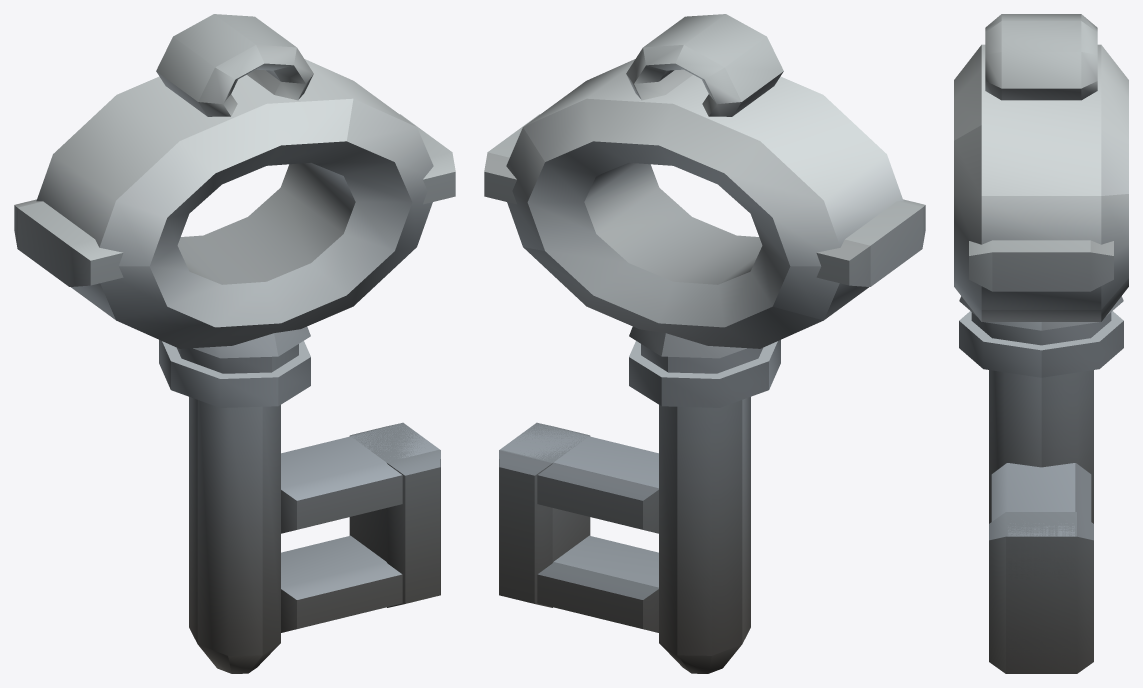
Rendered from key_iron_prison.glb.
3 renders of one model, left to right at view 1: azimuth 30°, elevation 25°; view 2: azimuth 150°, elevation 25°; view 3: azimuth 270°, elevation 25°, orthographic. The views are drawn at different scales.
Parts seen in each view (by area): view 1: Item; view 2: Item; view 3: Item.
Boxes of the visible parts, <box> form: Item: <box>14,14,455,673</box>; Item: <box>484,14,925,673</box>; Item: <box>954,14,1128,673</box>.
Bounding box in the file's own units: 0.48 × 0.76 × 0.2.
1 material, 1 textured.
